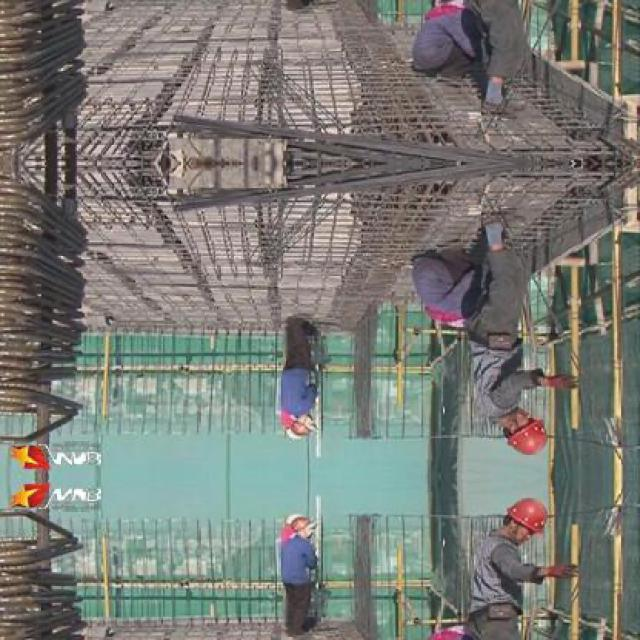con casco: (487, 396, 558, 472), (266, 392, 318, 451)
